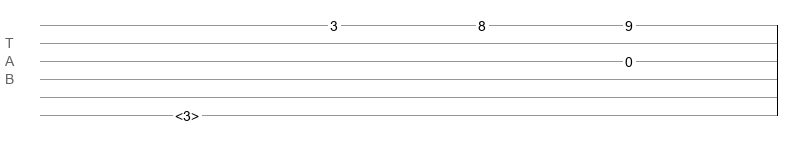0: (625, 54, 633, 64)
3: (330, 18, 338, 28)
8: (478, 18, 486, 28)
9: (625, 18, 633, 28)
harmonic: (175, 108, 199, 118)
